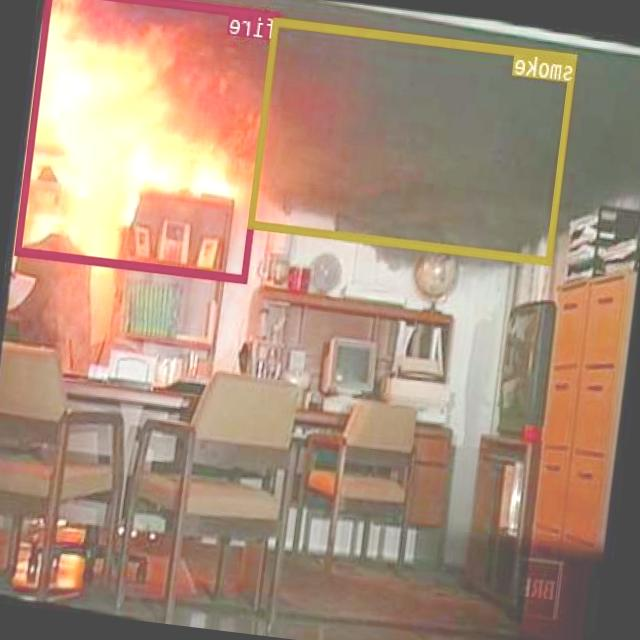fire: (15, 0, 280, 282)
smoke: (249, 17, 578, 264)
